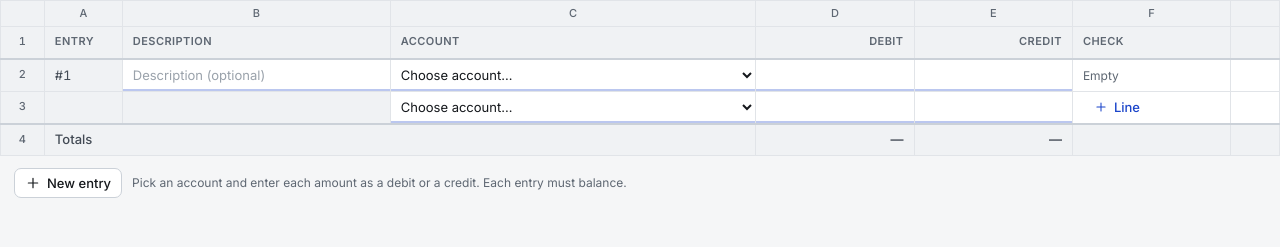
JournalEntryStep › adds and removes lines within the limits
The width and height of the screenshot is (1280, 247).
Click the button with aria-label "Add line to entry 1" at (1117, 107), box [1083,94,1151,120]
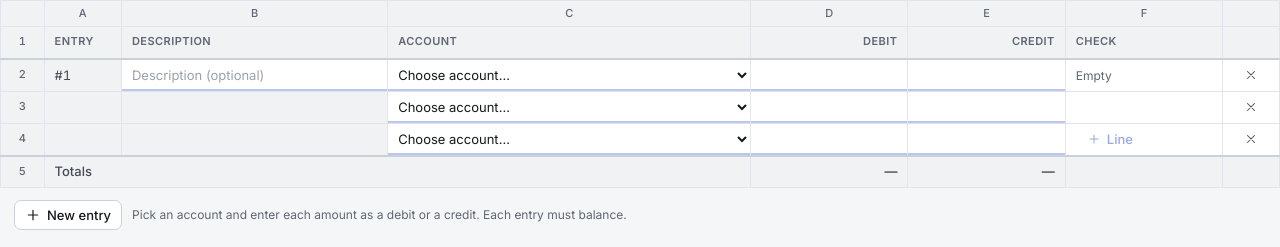
Expected: the button with aria-label "Add line to entry 1" is disabled, [1076,126,1144,152]
Type "9" into the field named "Debit, entry 1, line 3" at (829, 139), box [751,124,908,154]
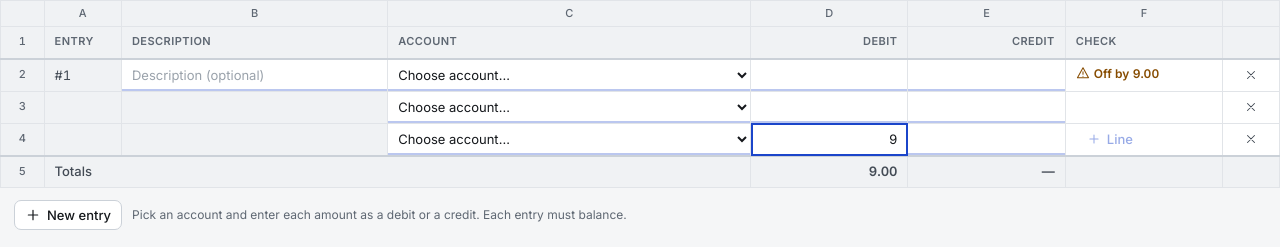
Click the button named "Remove entry 1, line 1" at (1251, 75), box [1238,62,1264,88]
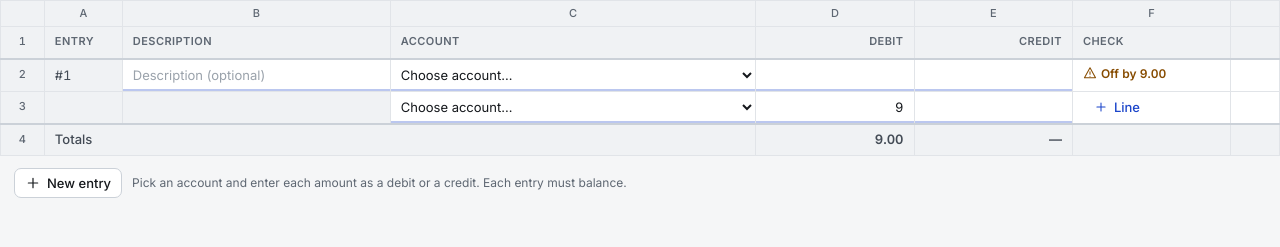
Expected: the number of dropdowns is 2, [391,60,755,90]; [391,92,755,122]
